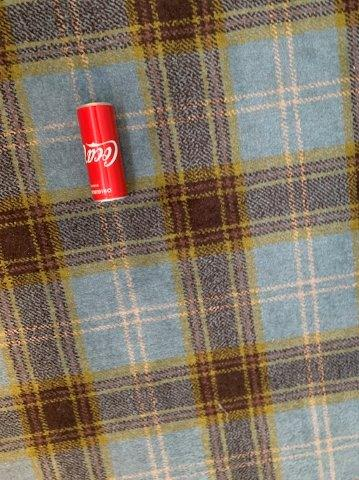kaleng: (77, 102, 128, 201)
